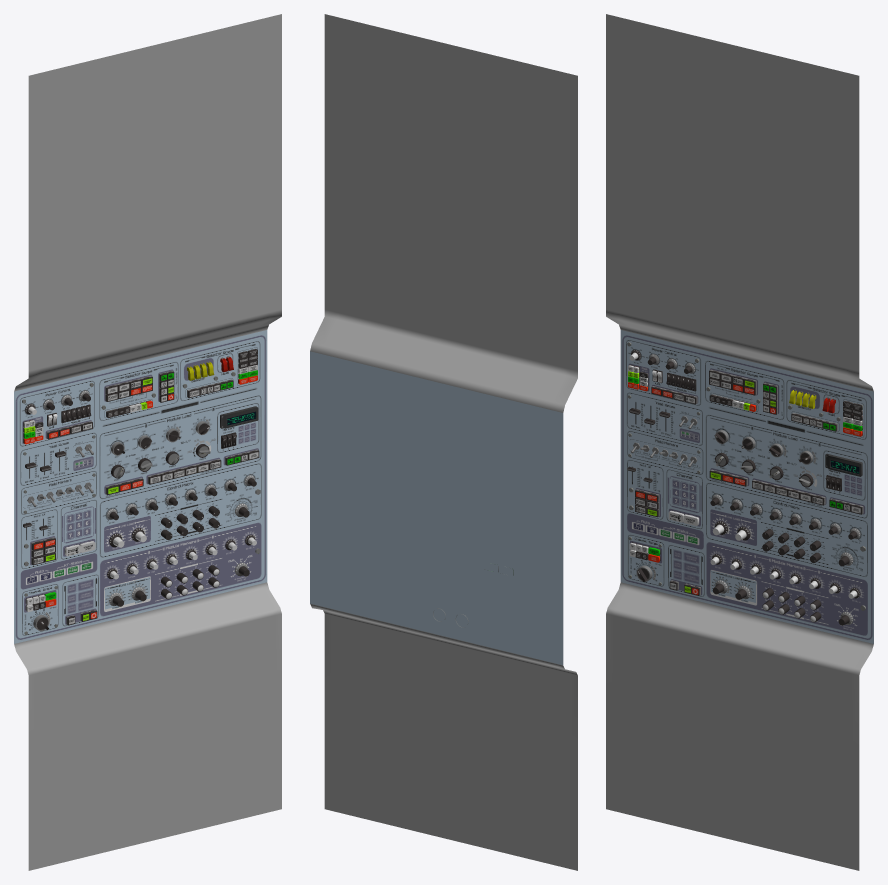
File: Wall_114_ControlPanel_1x3.fbx
3 renders of one model, left to right at view 1: azimuth 30°, elevation 25°; view 2: azimuth 150°, elevation 25°; view 3: azimuth 330°, elevation 25°, orthographic.
Visible parts, largest first — view 1: Wall_114_ControlPanel_1x3, LOD_0.087, LOD_0.060, LOD_0.077, LOD_0.048, LOD_0.064, LOD_0.085, LOD_0.066, LOD_0.096, LOD_0.084, LOD_0.083, LOD_0.081 (+1 smaller); view 2: Wall_114_ControlPanel_1x3; view 3: Wall_114_ControlPanel_1x3, LOD_0.087, LOD_0.060, LOD_0.077, LOD_0.048, LOD_0.064, LOD_0.085, LOD_0.066, LOD_0.096, LOD_0.083, LOD_0.084, LOD_0.082 (+1 smaller).
Part boxes in pixels (x1,y1,x2,y2): Wall_114_ControlPanel_1x3: (14, 14, 281, 870); LOD_0.087: (99, 394, 261, 499); LOD_0.060: (99, 521, 261, 617); LOD_0.077: (99, 462, 261, 558); LOD_0.048: (19, 380, 94, 447); LOD_0.064: (180, 340, 260, 401); LOD_0.085: (99, 361, 178, 421); LOD_0.066: (20, 432, 96, 486); LOD_0.096: (21, 470, 96, 515); LOD_0.084: (60, 499, 97, 559); LOD_0.083: (21, 508, 57, 569); LOD_0.081: (62, 574, 98, 626); Wall_114_ControlPanel_1x3: (310, 14, 577, 870); Wall_114_ControlPanel_1x3: (606, 14, 873, 870); LOD_0.087: (705, 414, 867, 519); LOD_0.060: (706, 541, 867, 636); LOD_0.077: (706, 482, 867, 577); LOD_0.048: (626, 339, 701, 406); LOD_0.064: (786, 379, 866, 440); LOD_0.085: (705, 360, 784, 420); LOD_0.066: (626, 392, 702, 446); LOD_0.096: (627, 430, 703, 475); LOD_0.083: (627, 459, 663, 520); LOD_0.084: (666, 468, 702, 529); LOD_0.082: (627, 534, 664, 586).
Size of what is drawn, in the model's own units: 1 by 3 by 0.1018.
